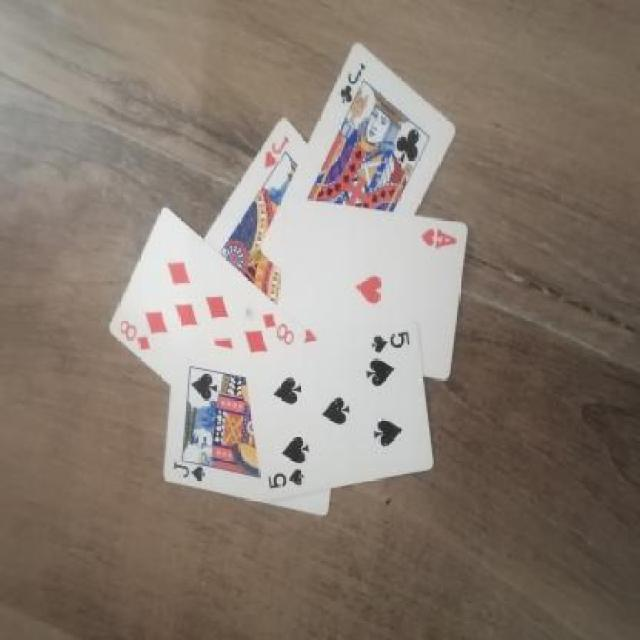5S: (363, 327, 420, 370)
8D: (122, 305, 156, 364)
AH: (404, 225, 473, 257)
JC: (338, 47, 365, 116)
JH: (261, 122, 301, 183)
JS: (173, 452, 212, 488)
